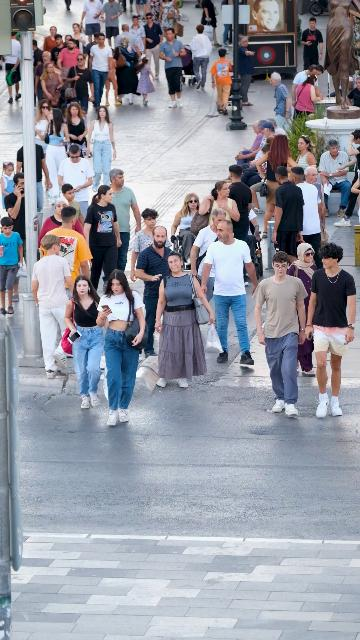person: (251, 251, 309, 419), (305, 244, 357, 419), (200, 219, 258, 366), (154, 250, 215, 389), (95, 269, 146, 427), (135, 226, 186, 359), (31, 233, 73, 379), (64, 274, 105, 410), (254, 134, 298, 242), (229, 120, 277, 211), (286, 242, 318, 377), (83, 184, 122, 290), (40, 206, 94, 281), (289, 166, 326, 272), (107, 168, 142, 277), (188, 207, 225, 304), (270, 165, 305, 267), (198, 180, 241, 247), (57, 145, 96, 218), (317, 139, 352, 219), (86, 105, 117, 193), (42, 108, 70, 205), (37, 196, 86, 250), (227, 163, 261, 240), (170, 192, 201, 270), (0, 216, 24, 316), (129, 207, 159, 283), (3, 171, 27, 266), (159, 28, 186, 109), (291, 64, 324, 122), (89, 34, 114, 108), (65, 53, 94, 113), (114, 37, 139, 105), (209, 49, 234, 115), (191, 24, 214, 91), (141, 12, 163, 82), (62, 102, 89, 159), (3, 31, 22, 104), (269, 72, 292, 130), (300, 17, 324, 72), (294, 74, 323, 119), (234, 121, 263, 165), (34, 51, 59, 101), (238, 35, 255, 106), (57, 38, 84, 79), (40, 62, 64, 107), (101, 0, 123, 49), (200, 0, 222, 47), (80, 0, 104, 43), (61, 183, 85, 225), (34, 99, 53, 152), (114, 24, 141, 60), (136, 56, 155, 106), (160, 0, 182, 42), (290, 135, 317, 169), (304, 165, 325, 206), (0, 162, 16, 212), (128, 15, 146, 58), (82, 34, 100, 73), (220, 0, 234, 48), (105, 65, 121, 106), (32, 39, 44, 86), (42, 26, 61, 55), (50, 34, 66, 65), (70, 23, 86, 52), (147, 0, 163, 29), (132, 0, 149, 23), (266, 118, 286, 136), (118, 0, 131, 13), (64, 35, 72, 44)
